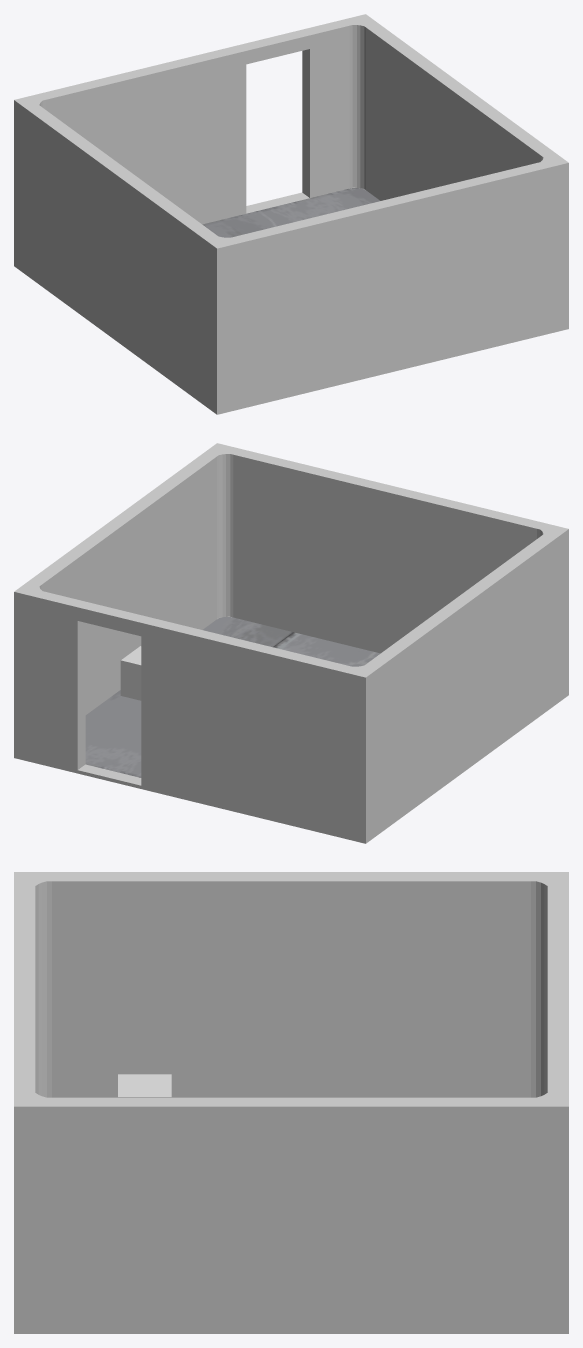
3 renders of one model, top to bottom at view 1: azimuth 30°, elevation 25°; view 2: azimuth 150°, elevation 25°; view 3: azimuth 270°, elevation 25°, orthographic. The views are drawn at different scales.
Parts seen in each view (by area): view 1: Cube; view 2: Cube, Cube.002; view 3: Cube, Cube.001.
Part boxes in pixels (bbox=[...]): Cube: bbox=[14, 14, 568, 414]; Cube: bbox=[14, 443, 568, 843]; Cube.002: bbox=[120, 646, 141, 700]; Cube: bbox=[14, 872, 568, 1333]; Cube.001: bbox=[118, 1074, 171, 1097].
Size of the model in its own units: 20.75 by 9.37 by 20.75.
2 materials, 1 textured.
